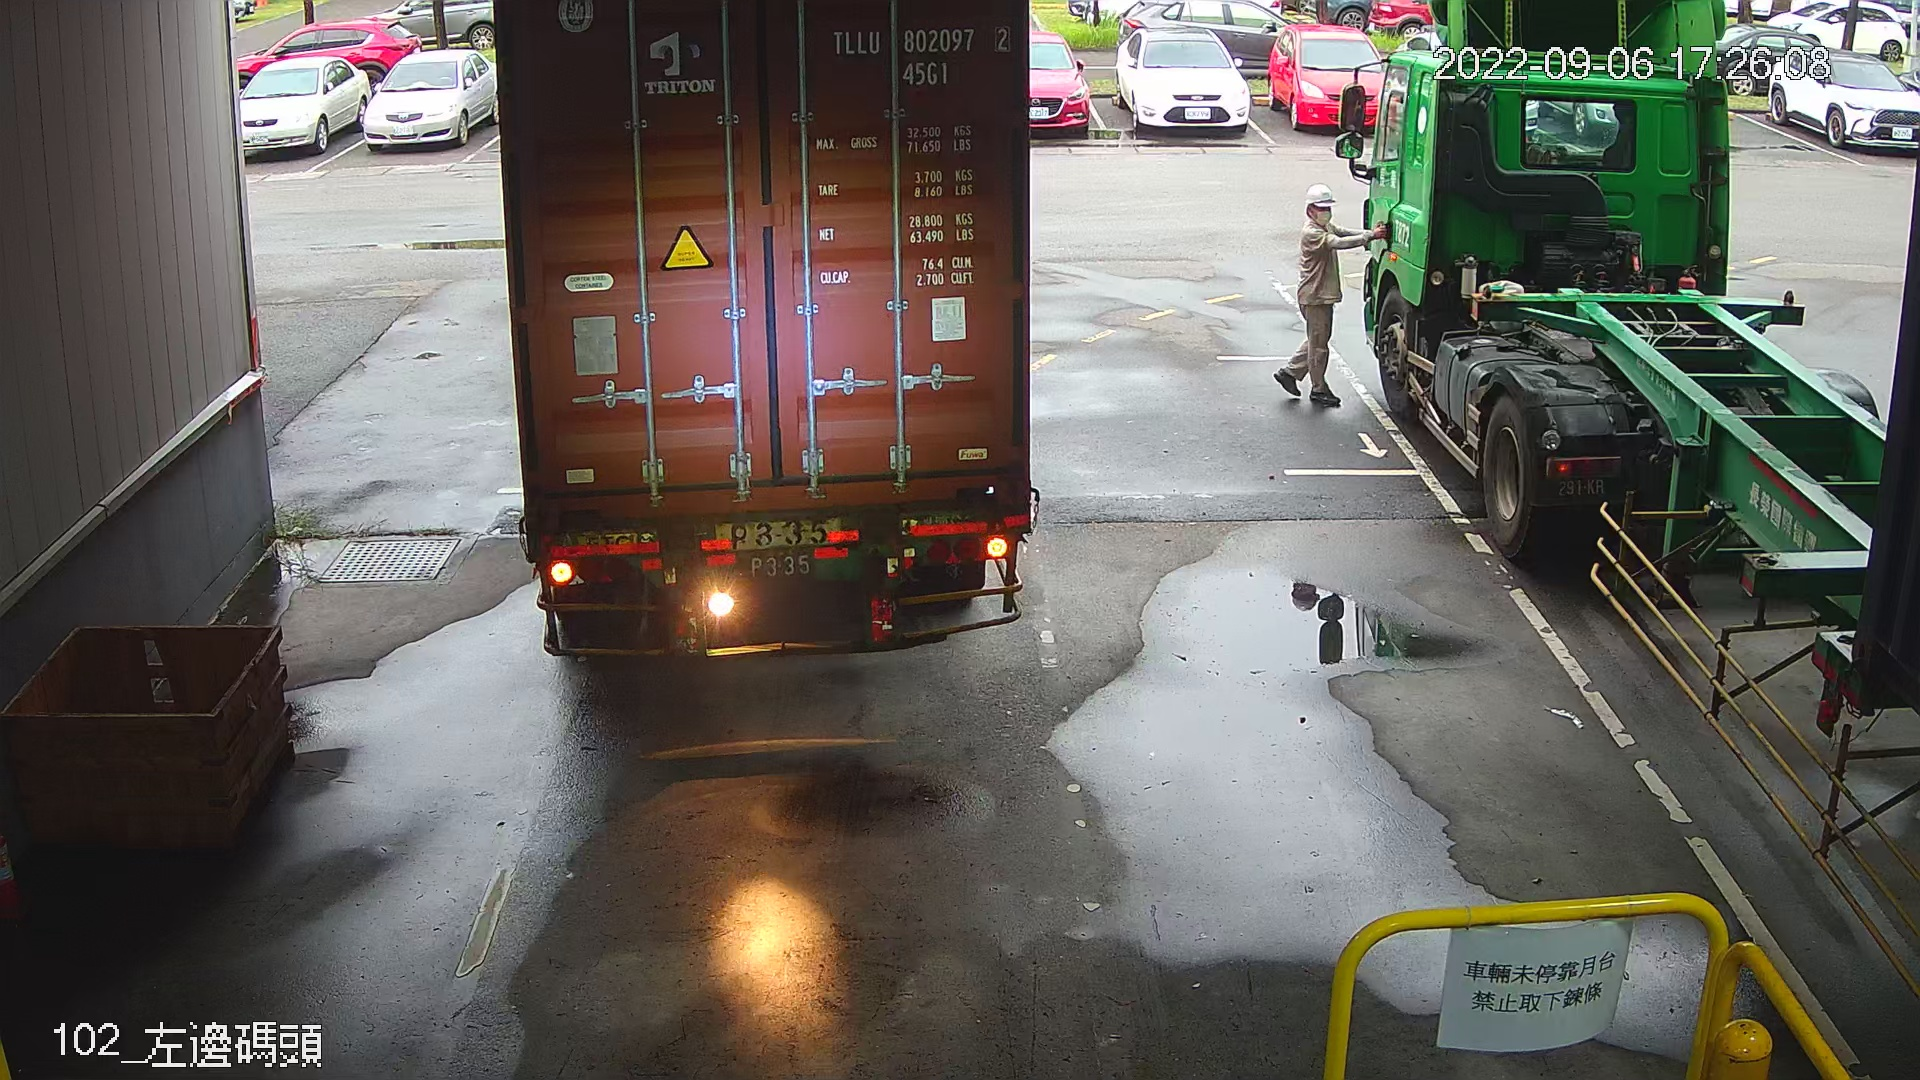container: (823, 17, 1021, 92)
